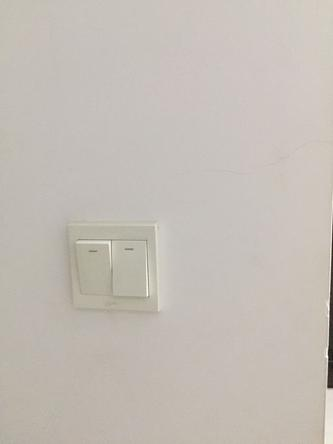switch: (109, 237, 154, 298), (73, 236, 116, 298)
